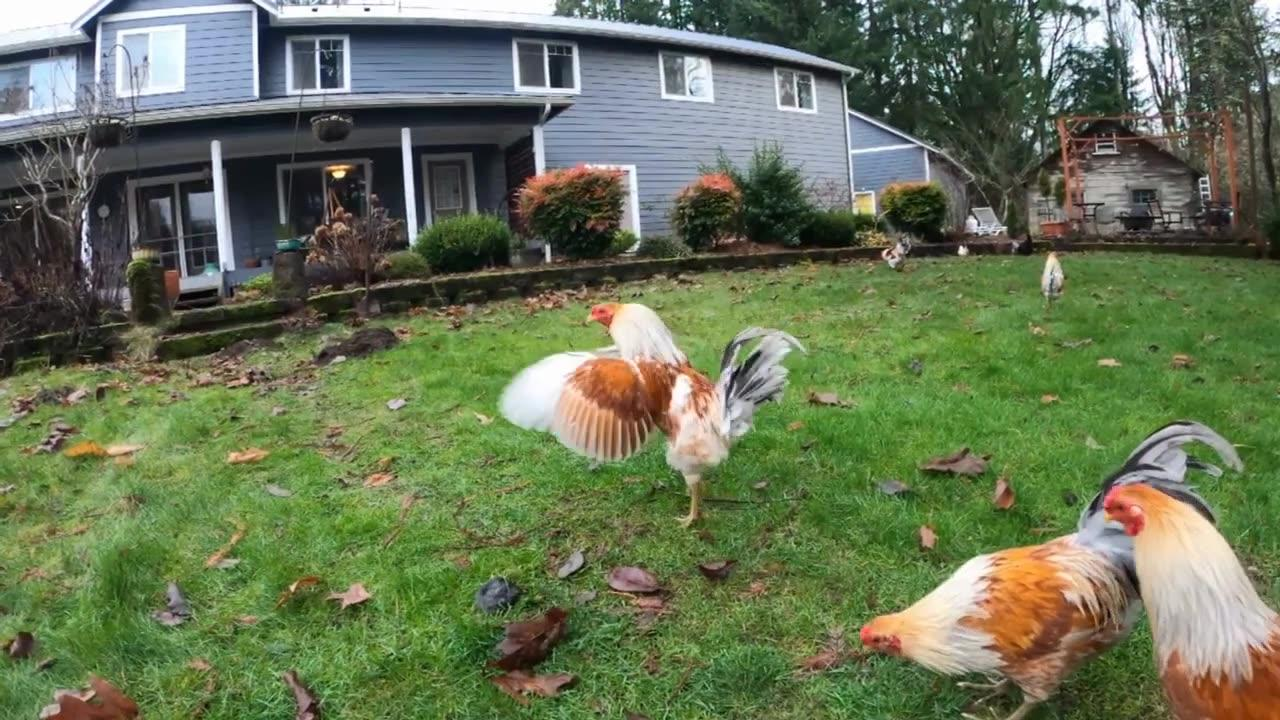Normal: (862, 426, 1202, 720), (490, 268, 830, 540), (1088, 456, 1280, 720)
